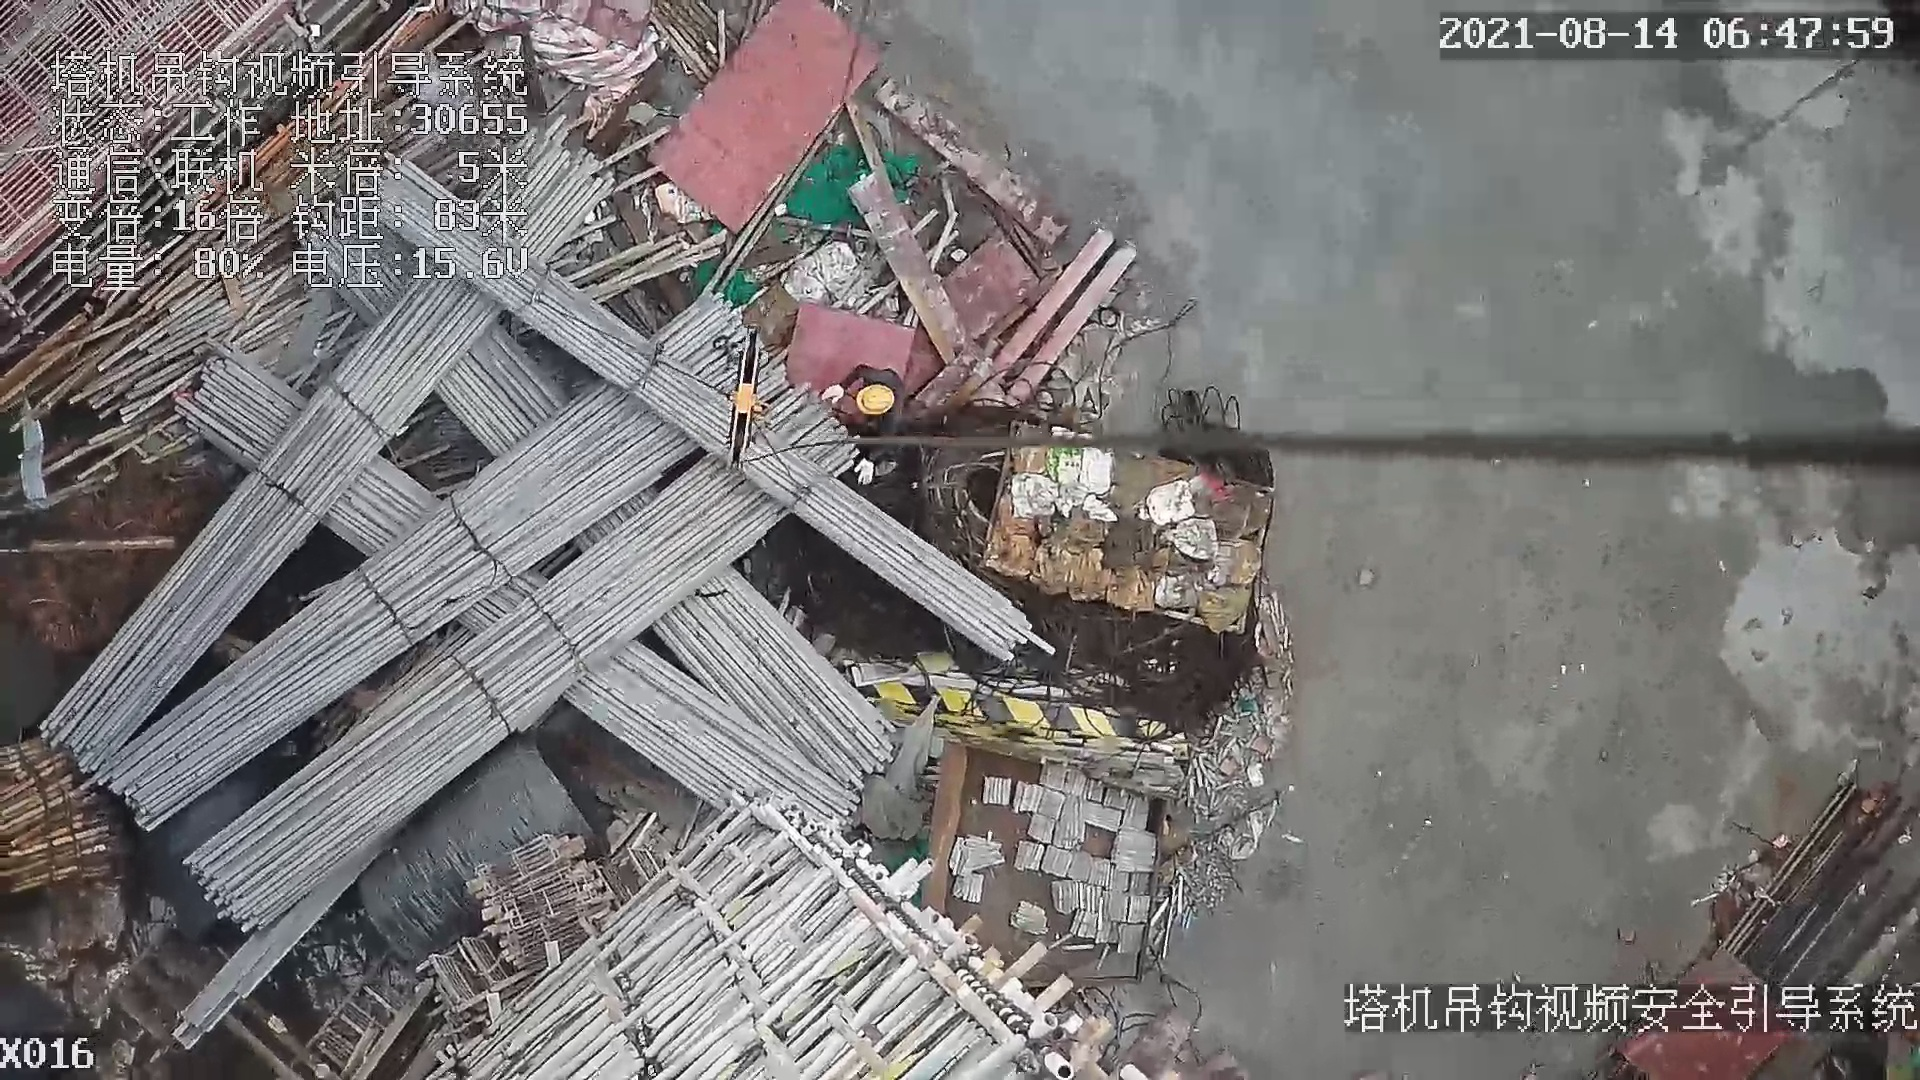board: (637, 2, 888, 237)
helmet: (855, 386, 900, 420)
hook: (720, 315, 762, 481)
person: (820, 360, 908, 494)
scaffold: (1, 730, 130, 898)
